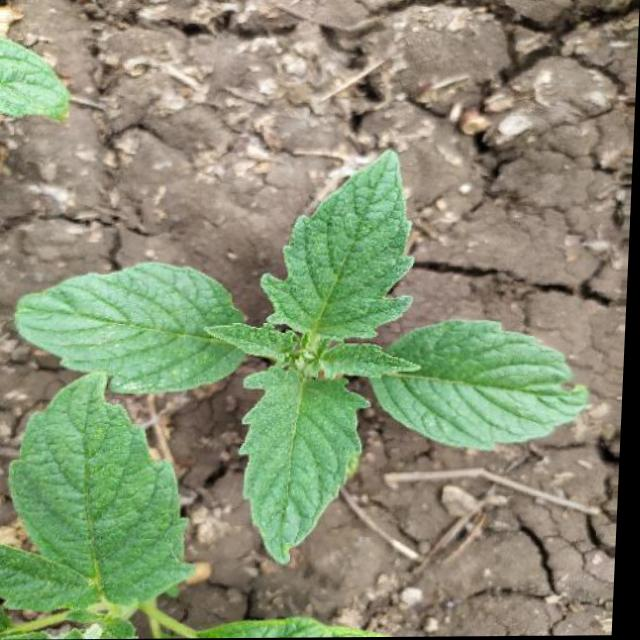crop: (13, 155, 598, 571)
